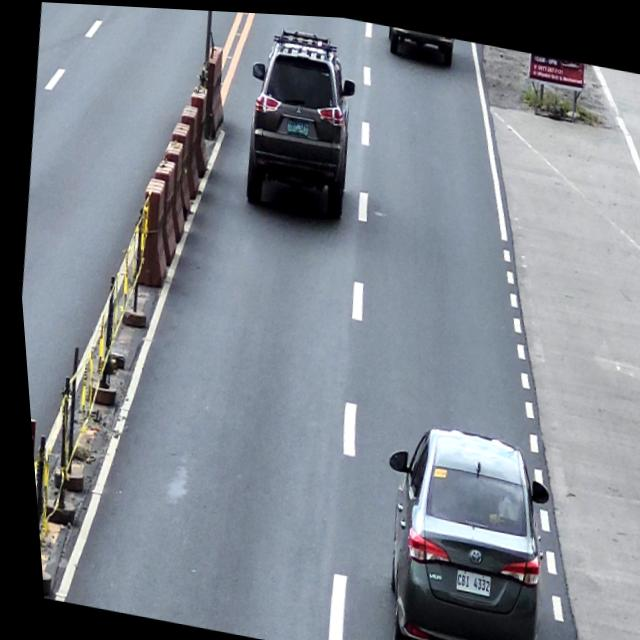Car: (350, 409, 559, 640), (230, 19, 370, 223)
License-Plate: (445, 563, 485, 594), (282, 115, 309, 137)
